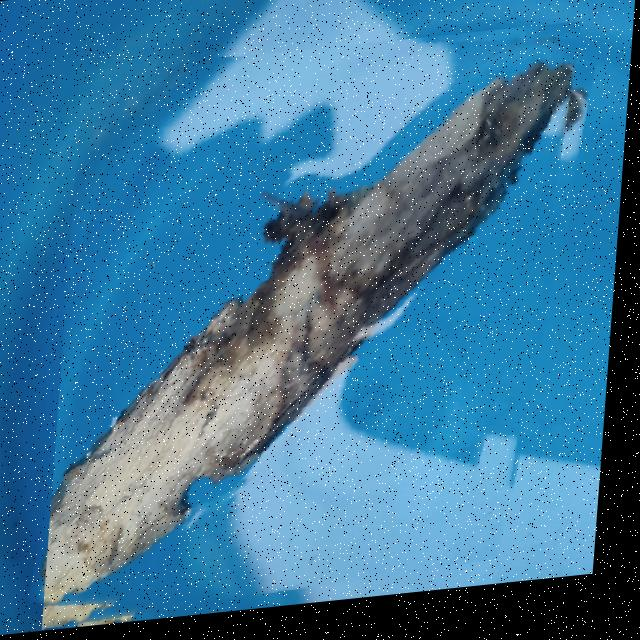wood: (52, 33, 585, 633)
